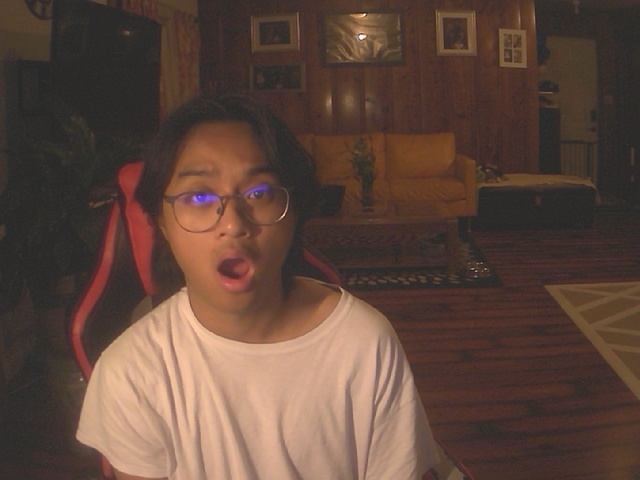fear: (132, 90, 322, 314)
